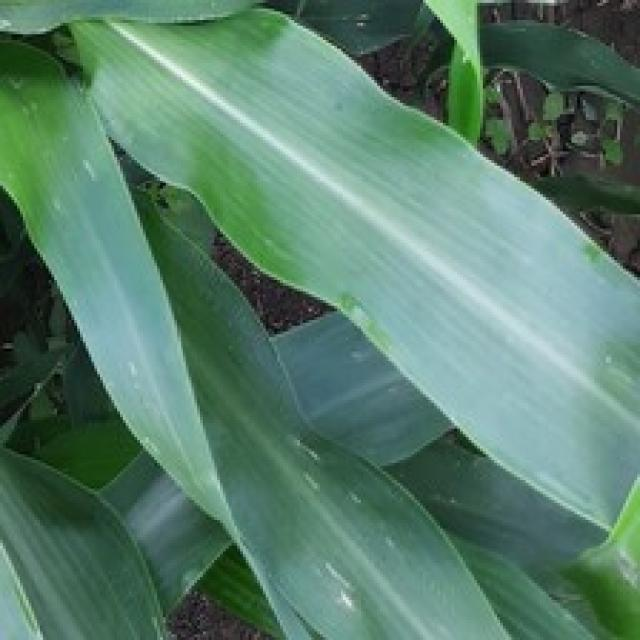Corn: (0, 0, 637, 637), (0, 28, 231, 528), (0, 0, 283, 34)
